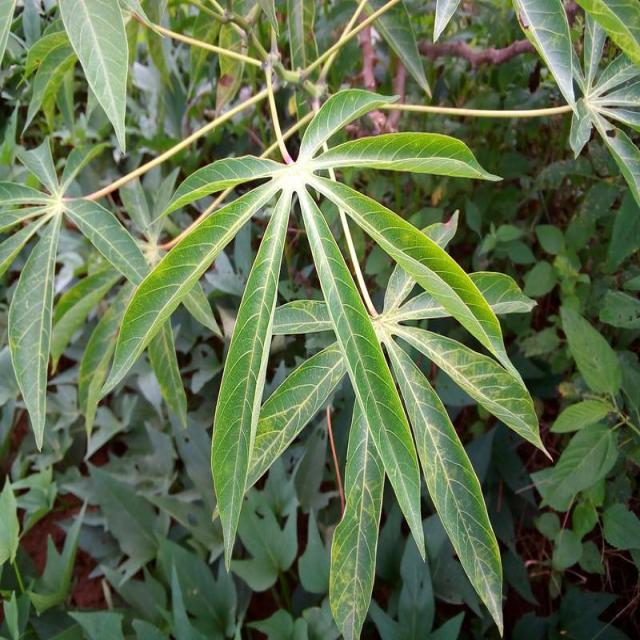cassava leaf: (96, 83, 550, 638)
